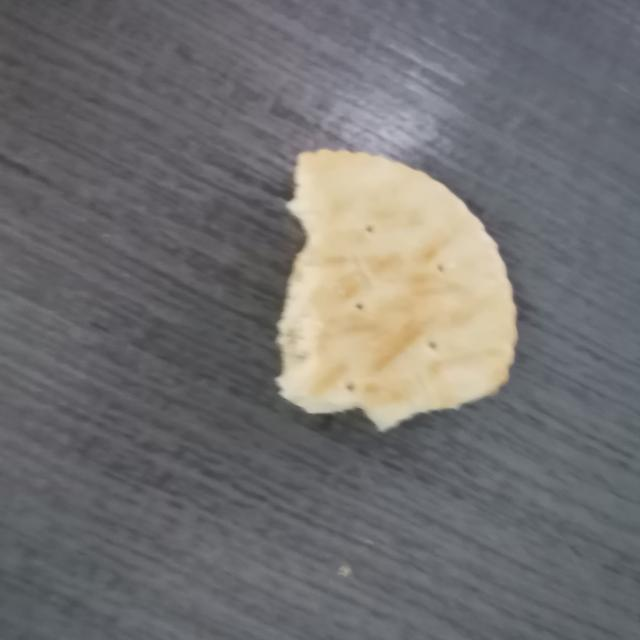Broken: (274, 147, 519, 433)
